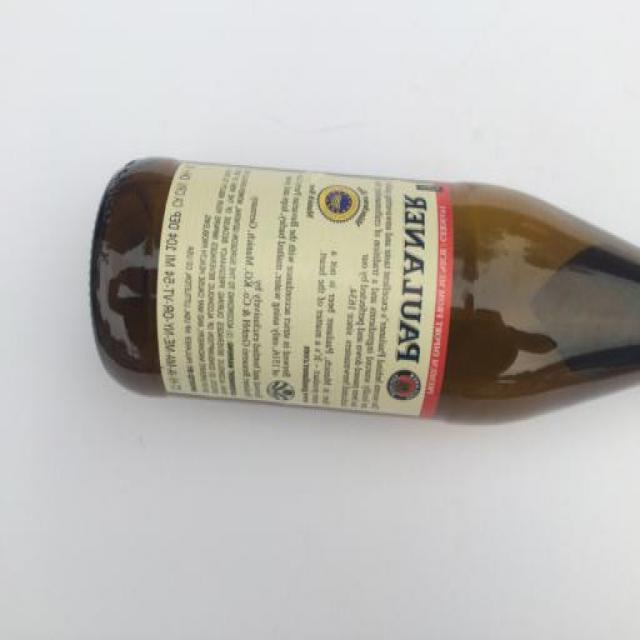glass: (88, 154, 640, 429)
